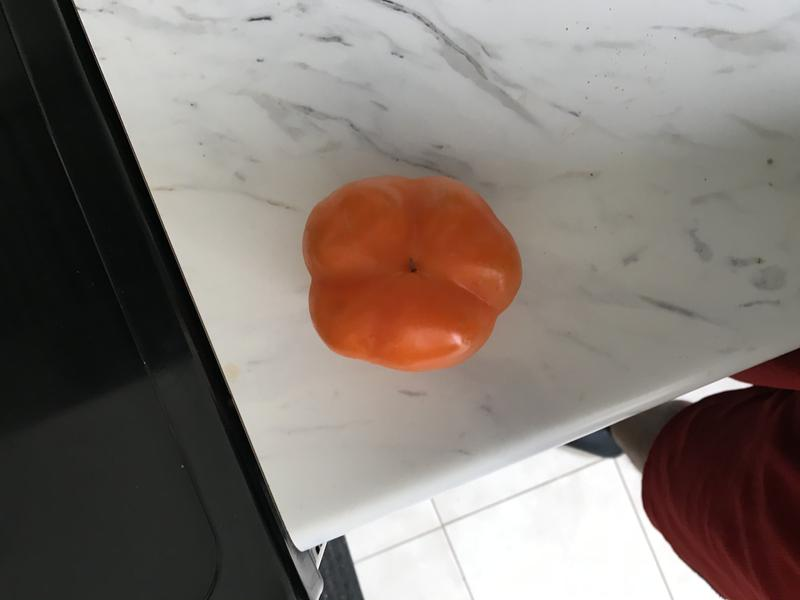orange_pepper: (293, 166, 534, 385)
